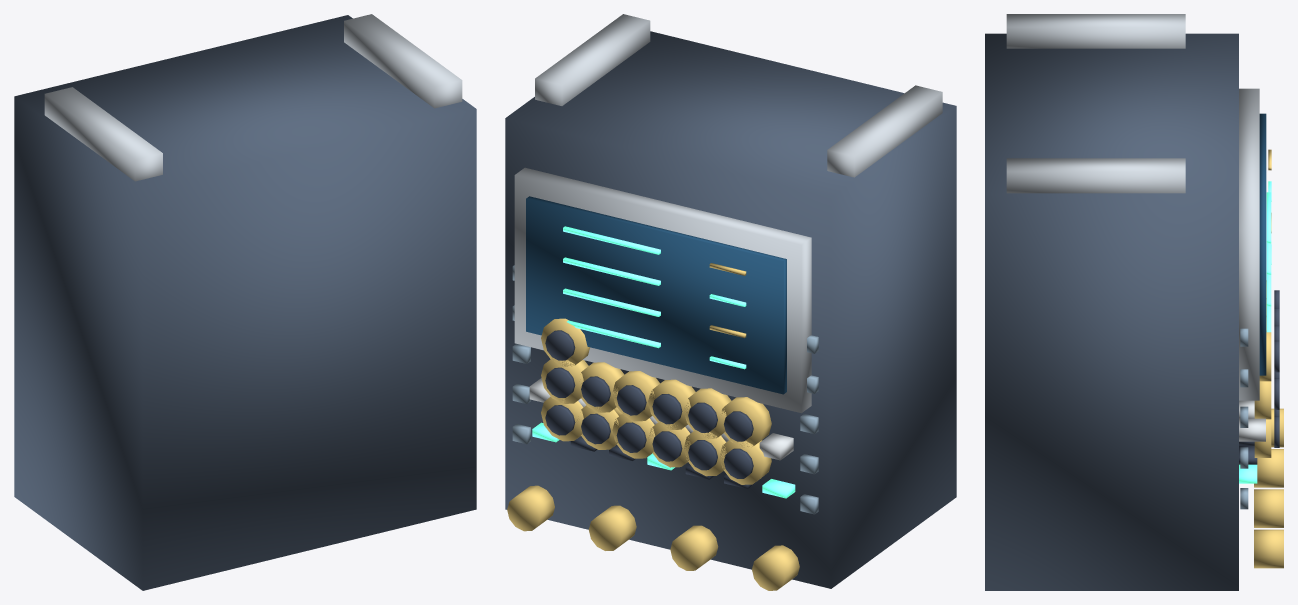
File: L85_44_RelativeNavigationFusionComputer_Fitted.fbx
The picture shows the model from 3 angles, left to right: view 1: azimuth 30°, elevation 25°; view 2: azimuth 150°, elevation 25°; view 3: azimuth 270°, elevation 25°; orthographic projection. The views are drawn at different scales.
Visible parts, largest first — view 1: L85_RelativeNavigationFusionComputer_Static__tint1A2434, L85_RelativeNavigationFusionComputer_Static__tintA8B8C7; view 2: L85_RelativeNavigationFusionComputer_Static__tint1A2434, L85_RelativeNavigationFusionComputer_Static__tint071C3B, L85_RelativeNavigationFusionComputer_Static__tintA8B8C7, L85_RelativeNavigationFusionComputer_Static__tintF7B83D, L85_RelativeNavigationFusionComputer_Static__tint111724, L85_RelativeNavigationFusionComputer_Static__tint24F09C, L85_RelativeNavigationFusionComputer_Static__tint527391, L85_RelativeNavigationFusionComputer_Static__tintCCD9E3; view 3: L85_RelativeNavigationFusionComputer_Static__tint1A2434, L85_RelativeNavigationFusionComputer_Static__tintA8B8C7, L85_RelativeNavigationFusionComputer_Static__tintF7B83D, L85_RelativeNavigationFusionComputer_Static__tint071C3B, L85_RelativeNavigationFusionComputer_Static__tint24F09C, L85_RelativeNavigationFusionComputer_Static__tint111724, L85_RelativeNavigationFusionComputer_Static__tint527391, L85_RelativeNavigationFusionComputer_Static__tintCCD9E3.
Part boxes in pixels (x1,y1,x2,y2): L85_RelativeNavigationFusionComputer_Static__tint1A2434: [14, 15, 476, 590]; L85_RelativeNavigationFusionComputer_Static__tintA8B8C7: [44, 14, 462, 181]; L85_RelativeNavigationFusionComputer_Static__tint1A2434: [505, 31, 956, 588]; L85_RelativeNavigationFusionComputer_Static__tint071C3B: [526, 196, 786, 394]; L85_RelativeNavigationFusionComputer_Static__tintA8B8C7: [514, 14, 942, 413]; L85_RelativeNavigationFusionComputer_Static__tintF7B83D: [507, 263, 799, 590]; L85_RelativeNavigationFusionComputer_Static__tint111724: [545, 330, 756, 488]; L85_RelativeNavigationFusionComputer_Static__tint24F09C: [532, 226, 795, 498]; L85_RelativeNavigationFusionComputer_Static__tint527391: [512, 265, 818, 514]; L85_RelativeNavigationFusionComputer_Static__tintCCD9E3: [529, 378, 793, 460]; L85_RelativeNavigationFusionComputer_Static__tint1A2434: [985, 33, 1238, 590]; L85_RelativeNavigationFusionComputer_Static__tintA8B8C7: [1006, 14, 1259, 400]; L85_RelativeNavigationFusionComputer_Static__tintF7B83D: [1254, 149, 1283, 568]; L85_RelativeNavigationFusionComputer_Static__tint071C3B: [1259, 113, 1266, 375]; L85_RelativeNavigationFusionComputer_Static__tint24F09C: [1239, 181, 1271, 483]; L85_RelativeNavigationFusionComputer_Static__tint111724: [1239, 290, 1279, 464]; L85_RelativeNavigationFusionComputer_Static__tint527391: [1240, 328, 1248, 509]; L85_RelativeNavigationFusionComputer_Static__tintCCD9E3: [1239, 400, 1265, 441].
Size of the model in its own units: 9.2 by 11.13 by 7.22.
